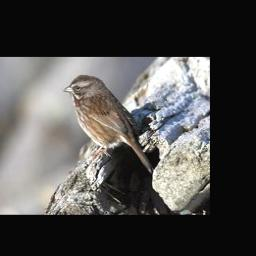Sparrow: (62, 74, 153, 175)
